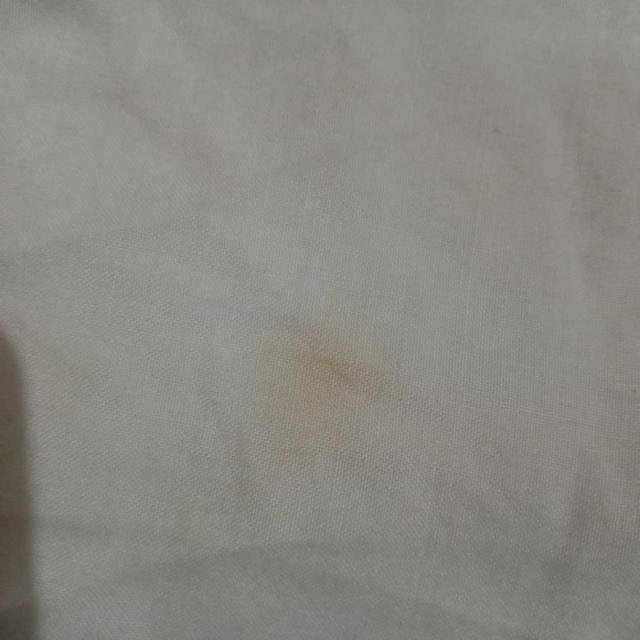stain: (242, 305, 395, 458)
